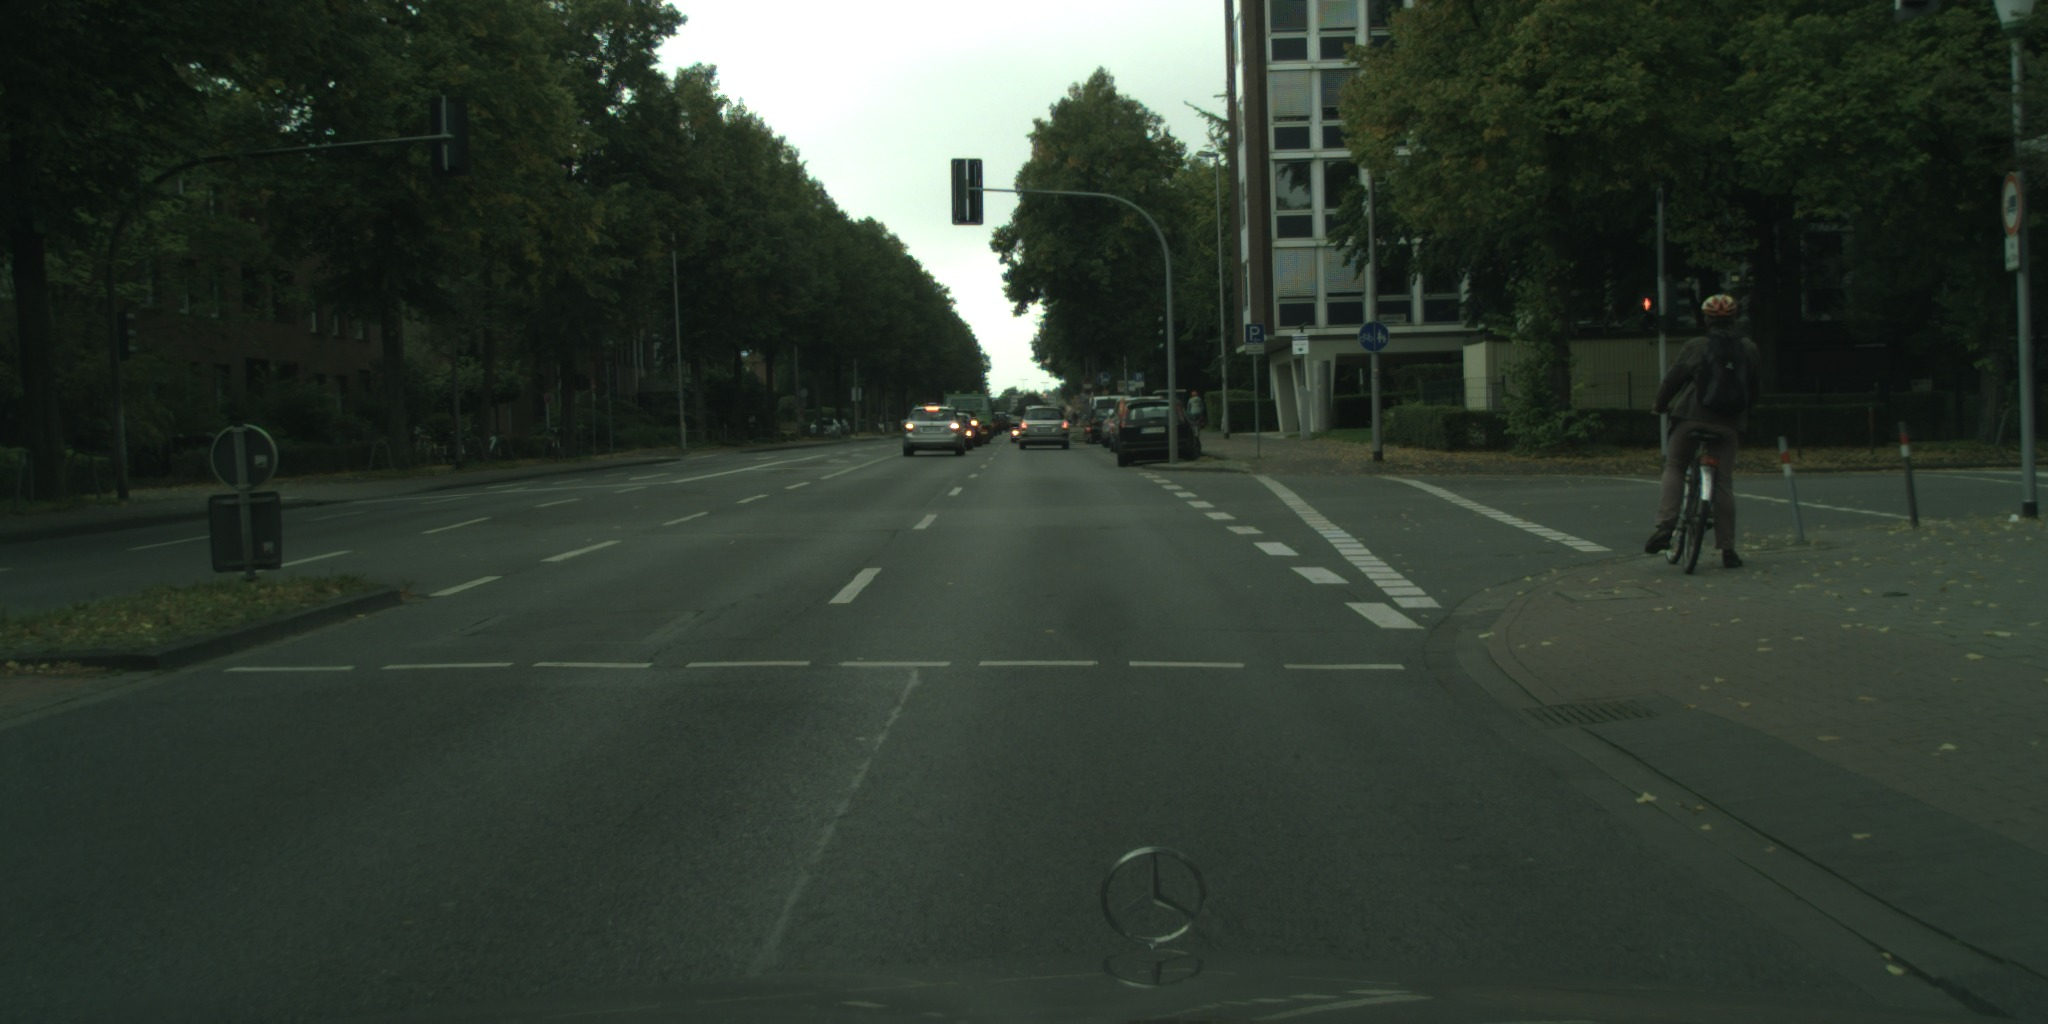bicycle: (1665, 430, 1720, 575)
car: (1114, 399, 1202, 469), (1098, 396, 1163, 453), (901, 406, 965, 458), (1016, 404, 1070, 451), (1082, 396, 1138, 440), (932, 415, 975, 450), (1088, 404, 1120, 446), (952, 409, 985, 448), (808, 416, 839, 437), (836, 415, 854, 436)
rider: (1644, 293, 1767, 568)
truck: (942, 391, 991, 444), (1009, 396, 1057, 443)
